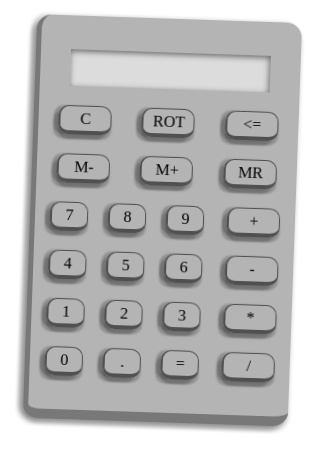
Test case: [Calculators] › other tests › display number concated
Click the button "1".
click(66, 313)  # box [46, 298, 85, 328]
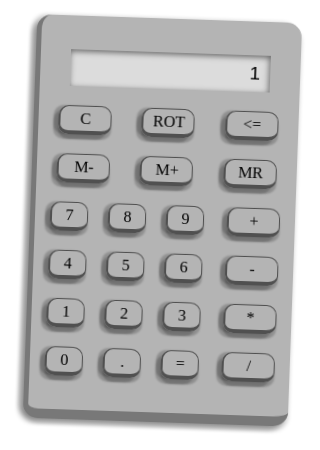
Click the button "2".
click(124, 315)  # box [104, 300, 143, 330]
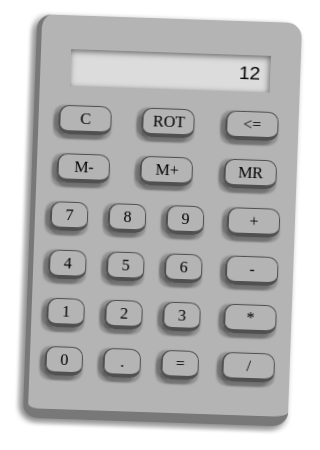
Result: the field with test id "result" holds "12" at [70, 49, 271, 93]
